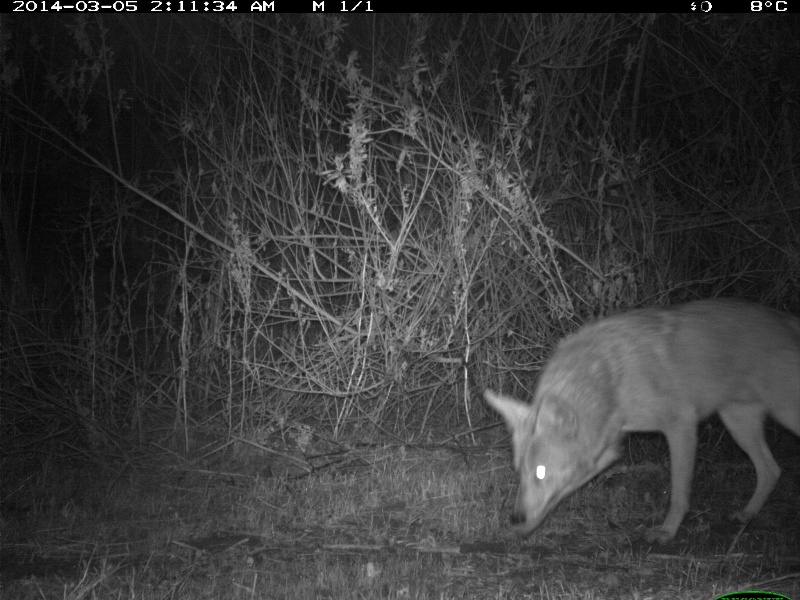coyote: (482, 299, 800, 555)
